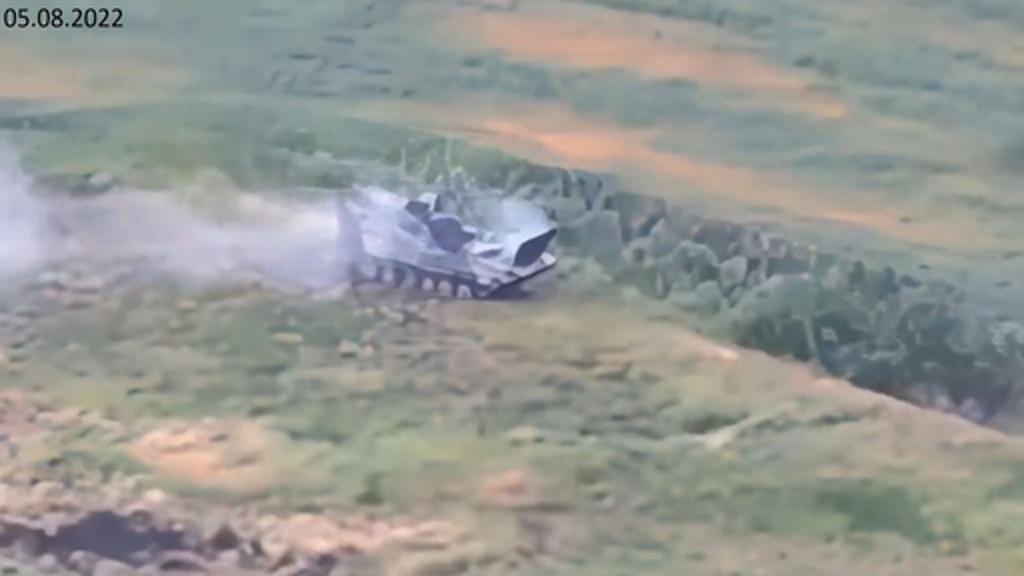APC-IFV: (332, 184, 562, 298)
